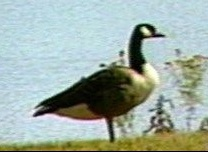goose: (32, 20, 174, 147)
